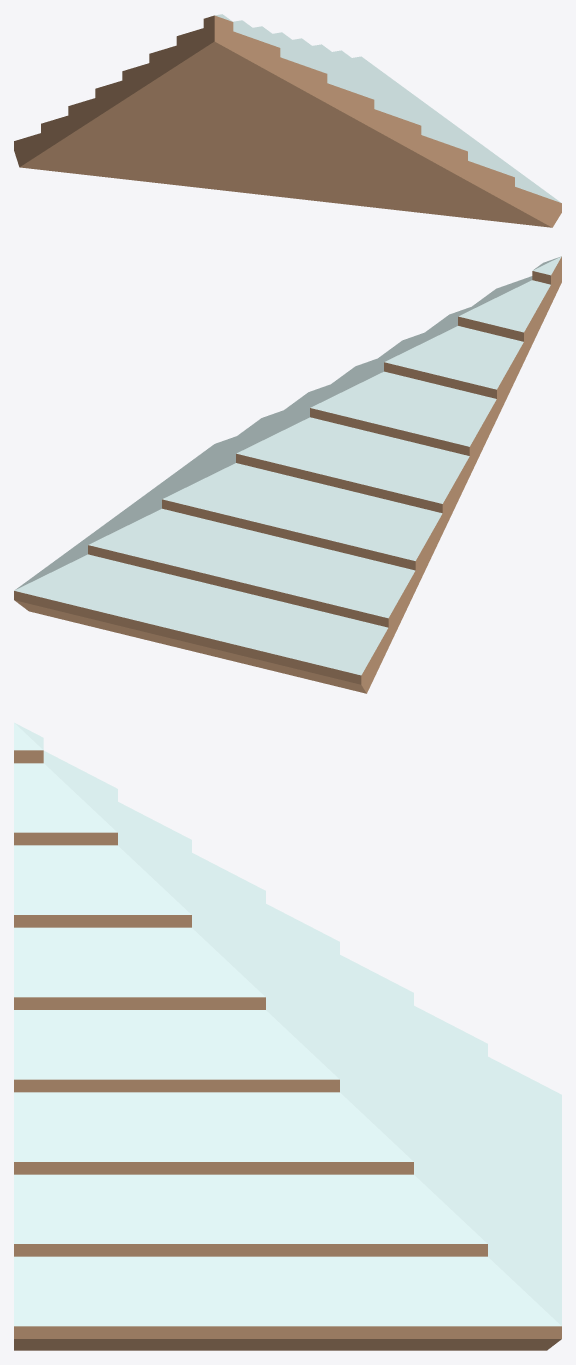
File: cabinRoofCorner.glb
3 renders of one model, top to bottom at view 1: azimuth 30°, elevation 25°; view 2: azimuth 150°, elevation 25°; view 3: azimuth 270°, elevation 25°, orthographic. The views are drawn at different scales.
Visible parts, largest first — view 1: cabinRoofCorner; view 2: cabinRoofCorner; view 3: cabinRoofCorner.
Boxes of the visible parts, x1,y1,x2,y2 form: cabinRoofCorner: [14, 14, 561, 227]; cabinRoofCorner: [14, 256, 561, 693]; cabinRoofCorner: [14, 722, 561, 1350].
Size of the model in its own units: 1.12 by 0.9046 by 1.12.
